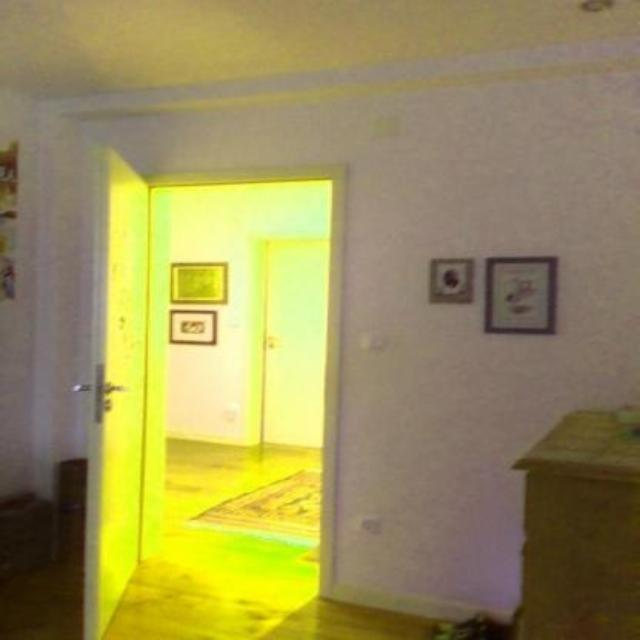door: (75, 144, 164, 638)
